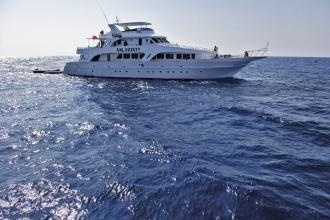yacht: (57, 17, 272, 81)
